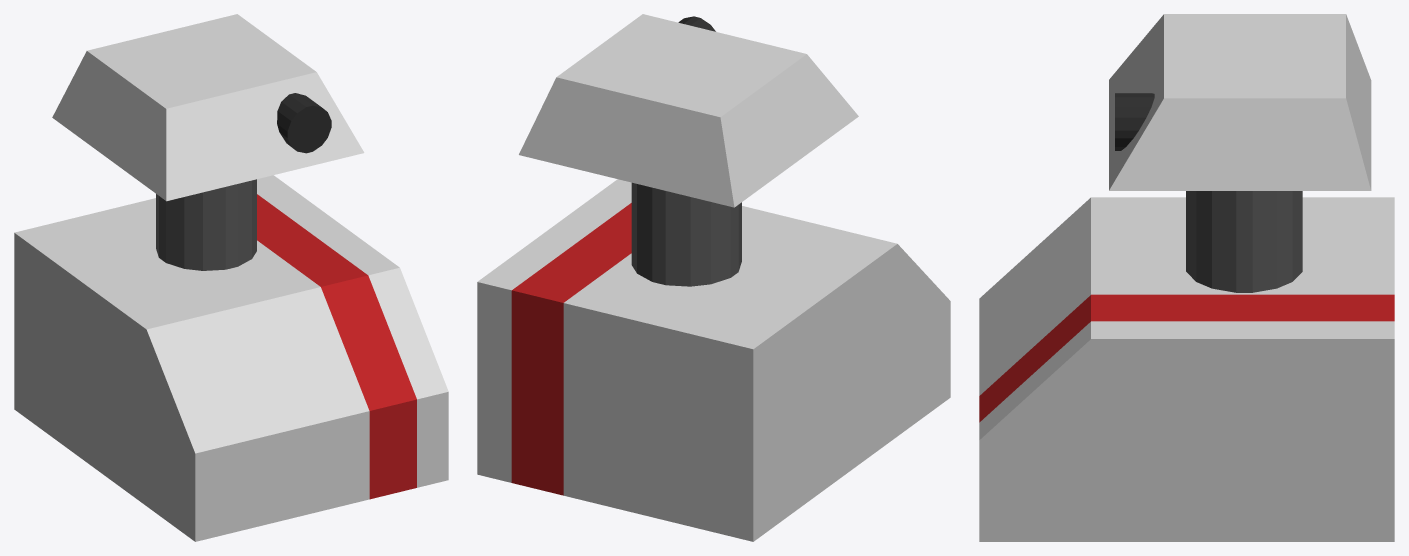
File: Laser Tower.fbx
3 views of the same model, side by side, from view 1: azimuth 30°, elevation 25°; view 2: azimuth 150°, elevation 25°; view 3: azimuth 270°, elevation 25° (orthographic). The views are drawn at different scales.
Parts seen in each view (by area): view 1: Body, Head, Neck, eye; view 2: Body, Head, Neck; view 3: Body, Head, Neck, eye.
Boxes of the visible parts, box(x1,y1,x2,y2) form: Body: box(14, 175, 448, 541); Head: box(52, 14, 364, 201); Neck: box(156, 179, 256, 270); eye: box(277, 93, 331, 153); Body: box(477, 179, 950, 541); Head: box(519, 14, 858, 207); Neck: box(631, 182, 741, 286); Body: box(979, 197, 1394, 541); Head: box(1109, 14, 1371, 190); Neck: box(1186, 191, 1302, 292); eye: box(1115, 93, 1154, 150).
Size of the model in its own units: 808 by 1000 by 1203.
